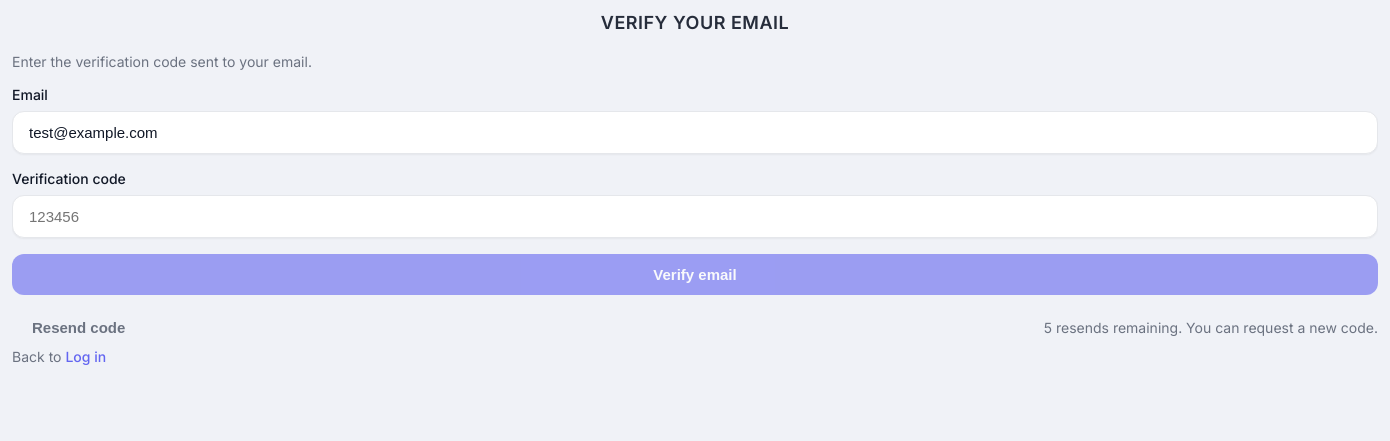
Test: VerifyEmail – resend limit › should allow 5 resends when maxResends is set to 5
What coordinates should you click on to do the following:
click the button "Resend code"
I would click on:
 (79, 328)
Its box is left=12, top=307, right=145, bottom=348.
Wait 120000 ms
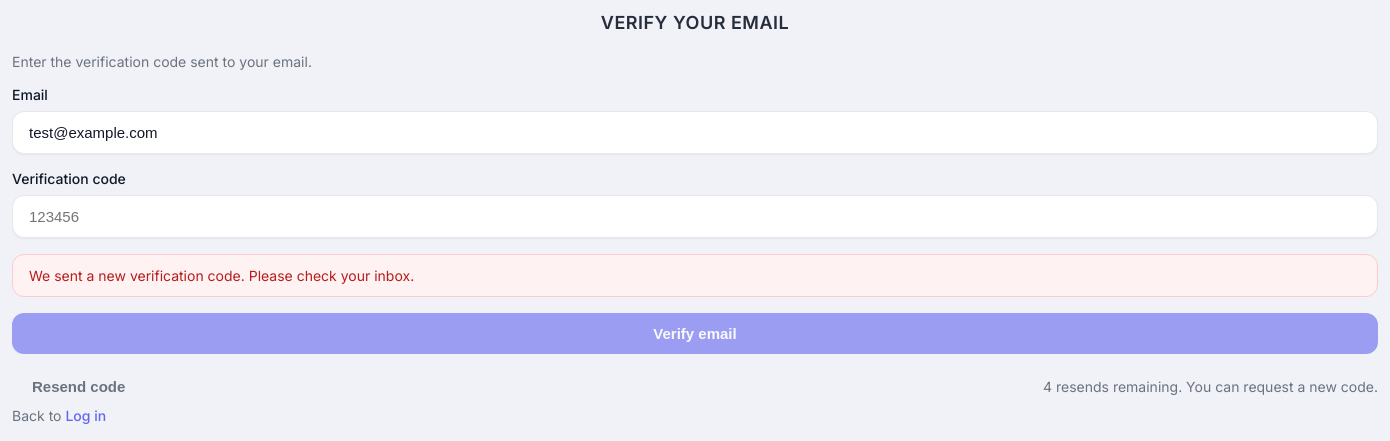
What coordinates should you click on to do the following:
click the button "Resend code"
I would click on:
 (79, 386)
Its box is left=12, top=366, right=145, bottom=407.
Wait 120000 ms
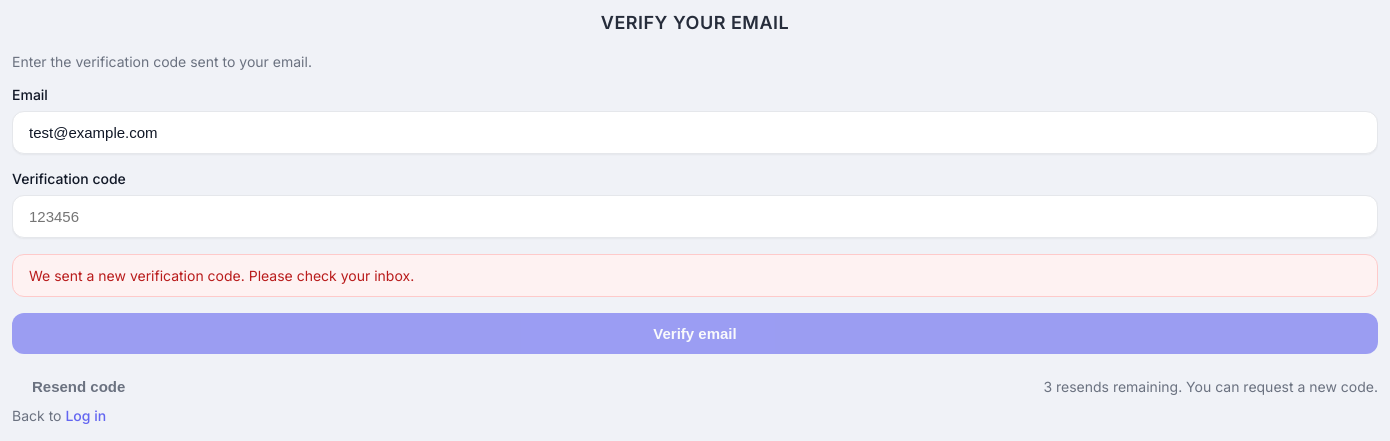
What coordinates should you click on to do the following:
click the button "Resend code"
I would click on:
 (79, 386)
Its box is left=12, top=366, right=145, bottom=407.
Wait 120000 ms
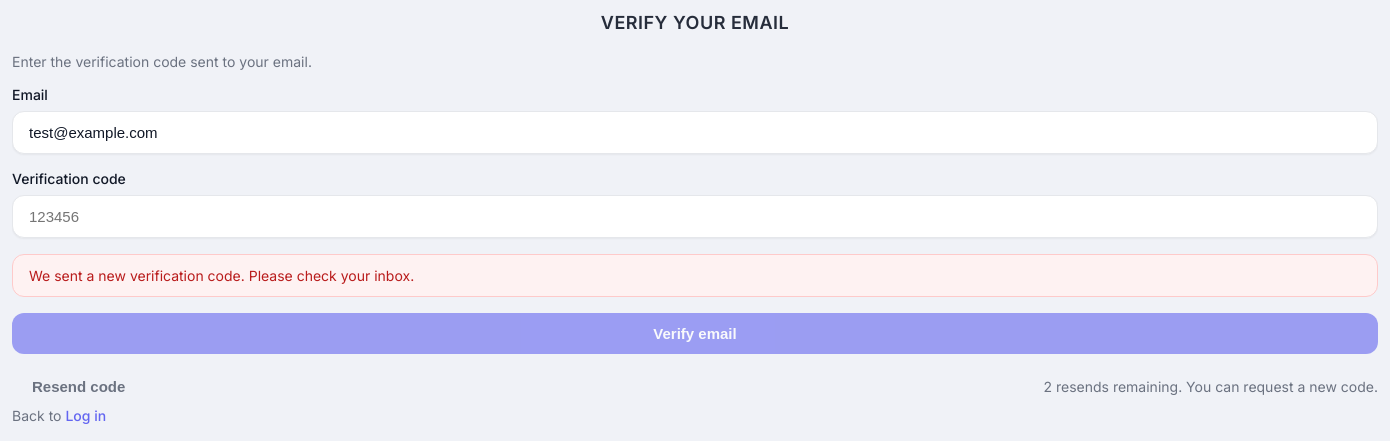
Result: the text "2 resends remaining. You can request a new code." is shown at left=1044, top=378, right=1378, bottom=395
